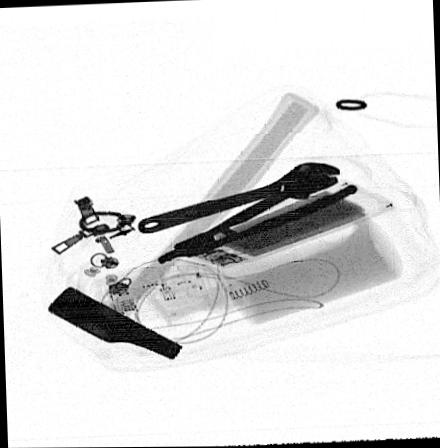Hammer: (48, 93, 319, 361)
Pliers: (155, 169, 358, 263)
Powerbank: (210, 179, 394, 262)
Wrench: (137, 161, 341, 233)
